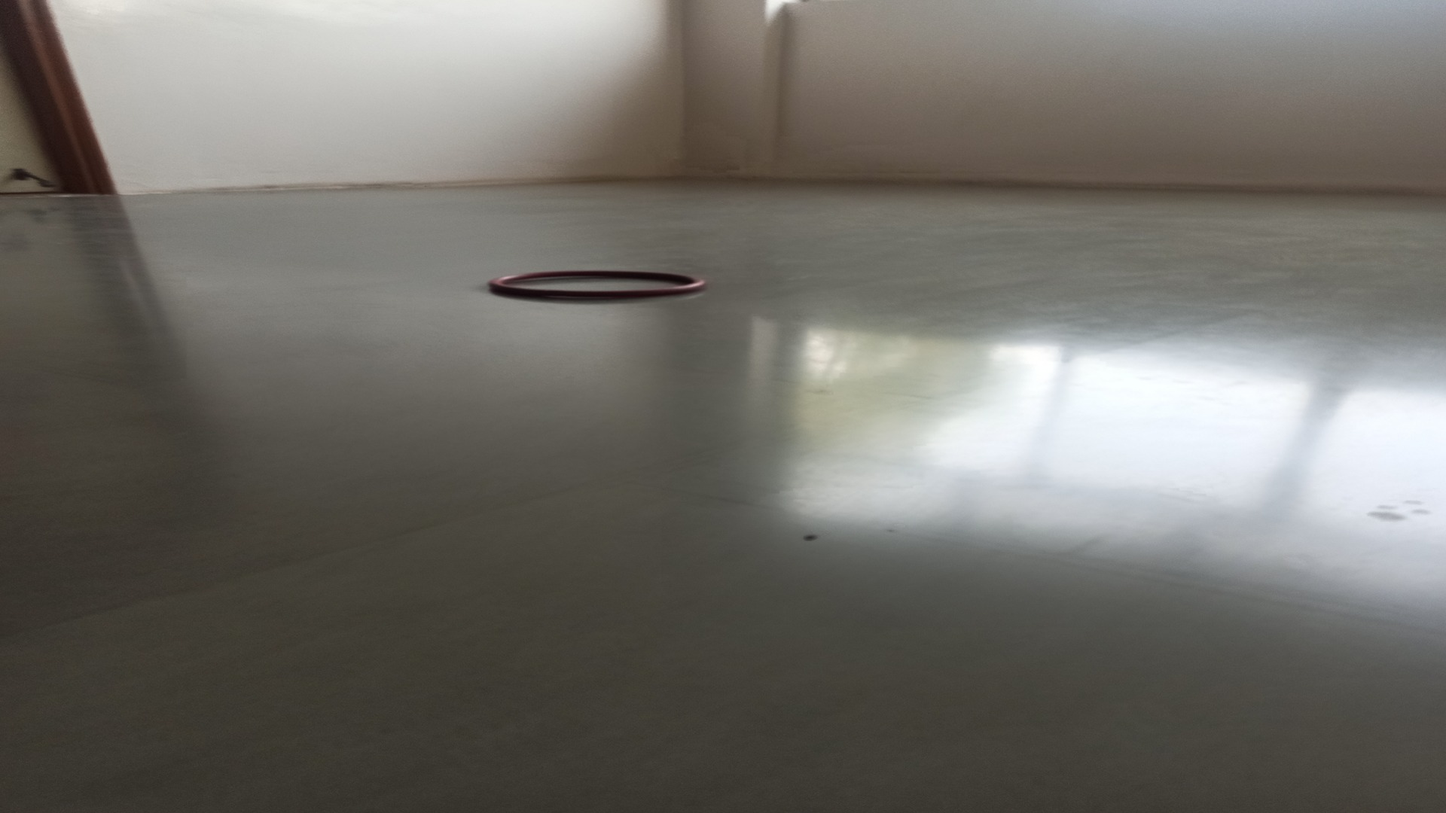Red ring: (487, 267, 705, 299)
